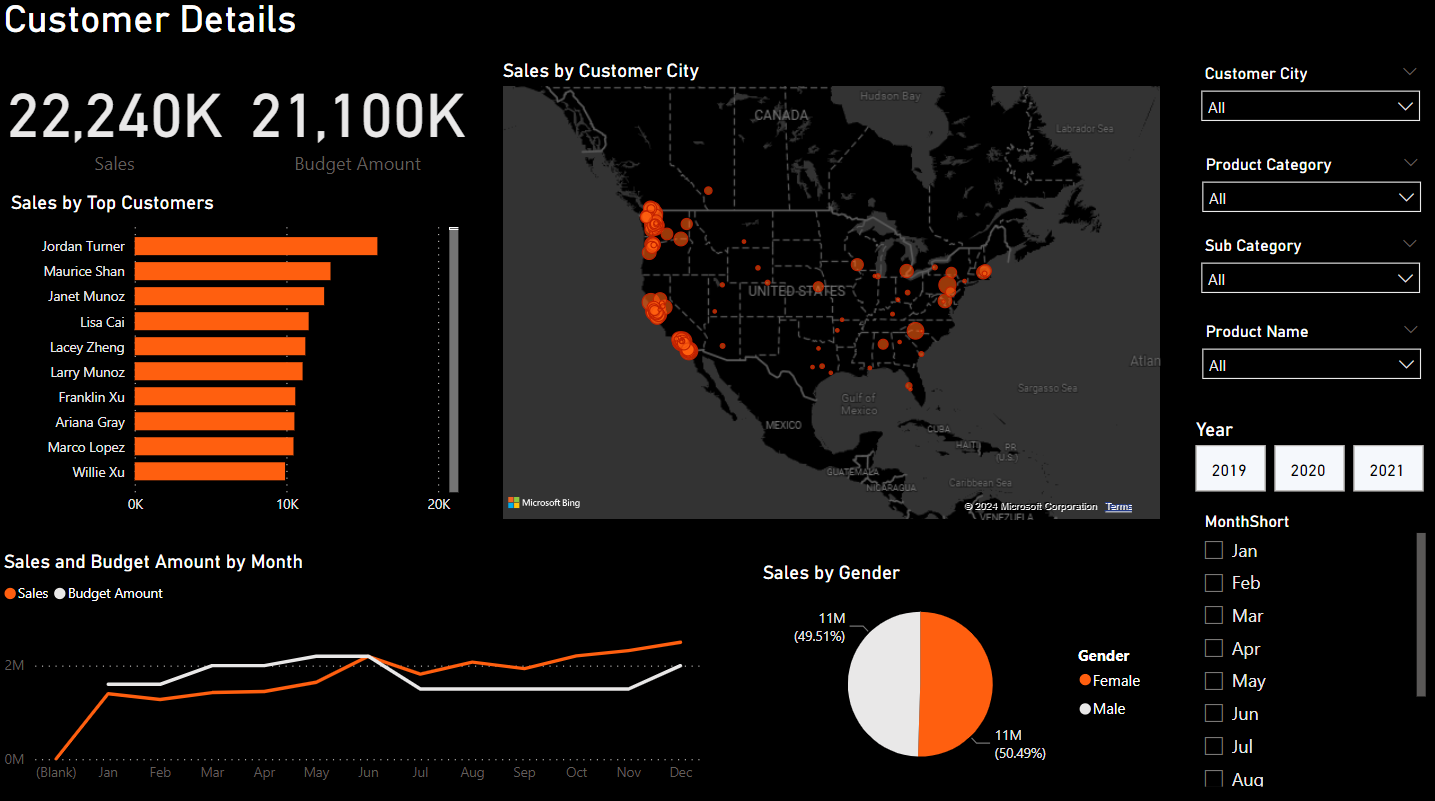

The page's visual inventory and layout, read from the dashboard file:
{"tool":"powerbi","page":{"name":"Customer Details","canvas":[1280,720],"ordinal":1},"visuals":[{"type":"textbox","title":"Customer Details","box":[0,0,1280,46.1],"z":0},{"type":"slicer","fields":{"Values":["DIM_Customer.Customer City"]},"box":[1056.9,55,213.7,80.7],"z":1000},{"type":"slicer","fields":{"Values":["DIM_Product.Product Category"]},"box":[1057.8,135.7,213.7,71.8],"z":2000},{"type":"slicer","fields":{"Values":["DIM_Product.Sub Category"]},"box":[1056.9,207.5,213.7,74.5],"z":3000},{"type":"slicer","fields":{"Values":["DIM_Product.Product Name"]},"box":[1057.8,283.7,213.7,76.3],"z":4000},{"type":"clusteredBarChart","title":"Sales by Top Customers","fields":{"Category":["DIM_Customer.Full Name"],"Y":["FACT_InternetSales.SalesAmount"]},"box":[6.2,172,407,296.2],"z":5000},{"type":"lineChart","title":"Sales and Budget Amount by Month","fields":{"Y":["Key Measures.Sales","Key Measures.Budget Amount"],"Category":["DIM_Calender.MonthShort"]},"box":[0,490.3,628.7,215.5],"z":6000},{"type":"advancedSlicerVisual","fields":{"Values":["DIM_Calender.Year"]},"box":[1056.9,373.3,213.7,70],"z":7000},{"type":"slicer","title":"Month","fields":{"Values":["DIM_Calender.MonthShort"]},"box":[1056.9,452.2,213.7,252.7],"z":8000},{"type":"map","fields":{"Size":["Key Measures.Sales"],"Category":["DIM_Customer.Customer City"]},"box":[442.5,55,593.2,413.2],"z":9000},{"type":"card","fields":{"Values":["Key Measures.Sales"]},"box":[0,46.1,206.6,125.9],"z":10000},{"type":"card","fields":{"Values":["Key Measures.Budget Amount"]},"box":[217.2,46.1,203.1,125.9],"z":11000},{"type":"pieChart","fields":{"Y":["Key Measures.Sales"],"Category":["DIM_Customer.Gender"]},"box":[673,500.1,355.6,199.5],"z":12000}]}

Visuals, with their boxes in screenshot pixels (x1, y1, x2, y2), scaled from the page's 1280x720 canvas onto the 1435x801 screenshot:
"Customer Details" textbox: crop(0, 0, 1434, 51)
slicer - DIM_Customer.Customer City: crop(1185, 61, 1424, 151)
slicer - DIM_Product.Product Category: crop(1186, 151, 1425, 231)
slicer - DIM_Product.Sub Category: crop(1185, 231, 1424, 314)
slicer - DIM_Product.Product Name: crop(1186, 316, 1425, 400)
"Sales by Top Customers" clusteredBarChart: crop(7, 191, 463, 521)
"Sales and Budget Amount by Month" lineChart: crop(0, 545, 705, 785)
advancedSlicerVisual - DIM_Calender.Year: crop(1185, 415, 1424, 493)
"Month" slicer: crop(1185, 503, 1424, 784)
map - Key Measures.Sales x DIM_Customer.Customer City: crop(496, 61, 1161, 521)
card - Key Measures.Sales: crop(0, 51, 232, 191)
card - Key Measures.Budget Amount: crop(244, 51, 471, 191)
pieChart - Key Measures.Sales x DIM_Customer.Gender: crop(754, 556, 1153, 778)
